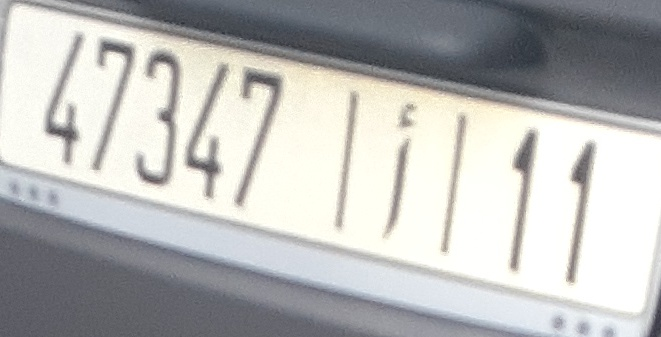1: (504, 128, 542, 277), (564, 137, 599, 284)
3: (134, 43, 182, 189)
4: (185, 61, 231, 200), (41, 31, 85, 167)
7: (234, 64, 285, 210), (92, 33, 136, 174)
a: (379, 100, 418, 243)
